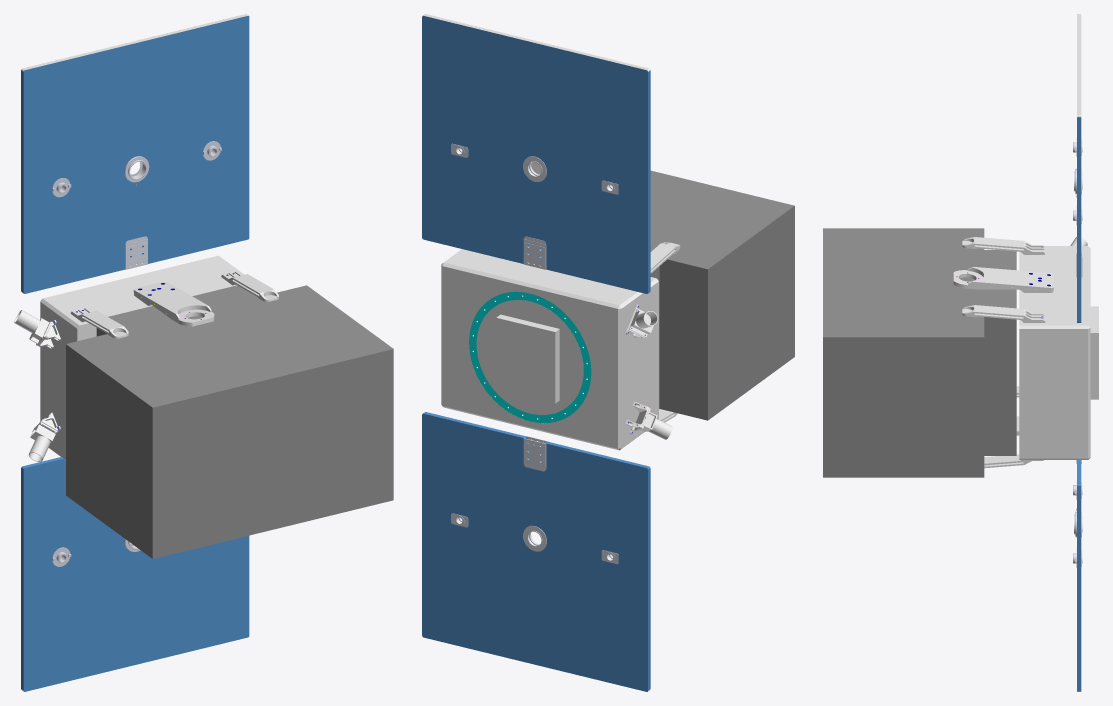
Rendered from FFV1.glb.
3 views of the same model, side by side, from view 1: azimuth 30°, elevation 25°; view 2: azimuth 150°, elevation 25°; view 3: azimuth 270°, elevation 25° (orthographic). The views are drawn at different scales.
Parts seen in each view (by area): view 1: FF - HONEYCOMB CORE REV.4 (Semi-Frozen), Volume CU, 11120623-2- FFV1 - Support STR V1.7, FRONT - Snubber base REV1_3; view 2: FF - HONEYCOMB CORE REV.4 (Semi-Frozen), 11120623-2- FFV1 - Support STR V1.7, Volume CU, FRONT - Snubber base REV1_3, Volume PF; view 3: Volume CU, 11120623-2- FFV1 - Support STR V1.7, FF - HONEYCOMB CORE REV.4 (Semi-Frozen), FRONT - Snubber base REV1_3.
Part boxes in pixels (<box>): FF - HONEYCOMB CORE REV.4 (Semi-Frozen): <box>21,15,249,691</box>; Volume CU: <box>66,285,393,558</box>; 11120623-2- FFV1 - Support STR V1.7: <box>14,14,278,691</box>; FRONT - Snubber base REV1_3: <box>52,141,221,566</box>; FF - HONEYCOMB CORE REV.4 (Semi-Frozen): <box>422,15,650,691</box>; 11120623-2- FFV1 - Support STR V1.7: <box>423,14,680,690</box>; Volume CU: <box>531,162,794,420</box>; FRONT - Snubber base REV1_3: <box>451,143,618,564</box>; Volume PF: <box>469,291,591,423</box>; Volume CU: <box>823,228,1016,477</box>; 11120623-2- FFV1 - Support STR V1.7: <box>953,14,1098,691</box>; FF - HONEYCOMB CORE REV.4 (Semi-Frozen): <box>1077,117,1081,690</box>; FRONT - Snubber base REV1_3: <box>1073,138,1082,567</box>.
Bounding box in the file's own units: 0.8003 × 1.97 × 0.8543.
